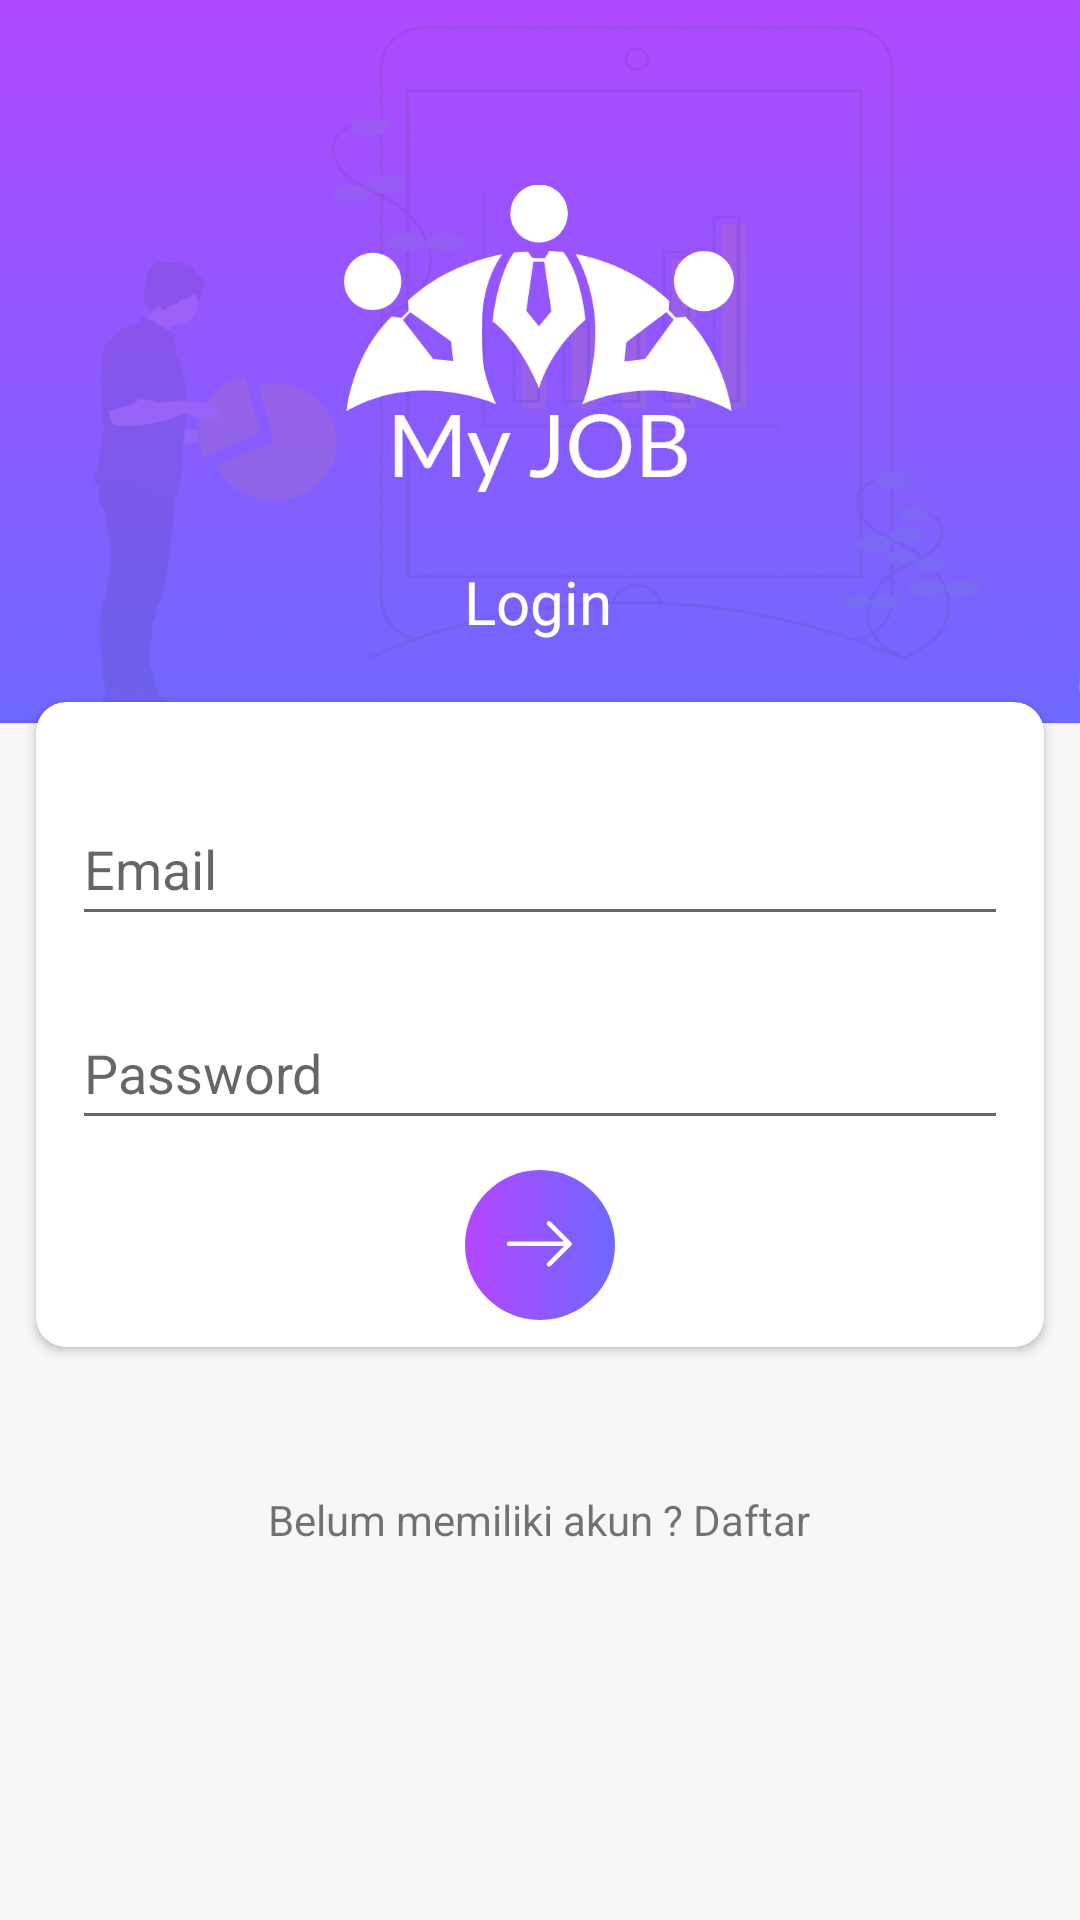

Icons on this 1080×1920 Android screen, each with the point to tap as (x,y):
Tombol login: (540,1245)
